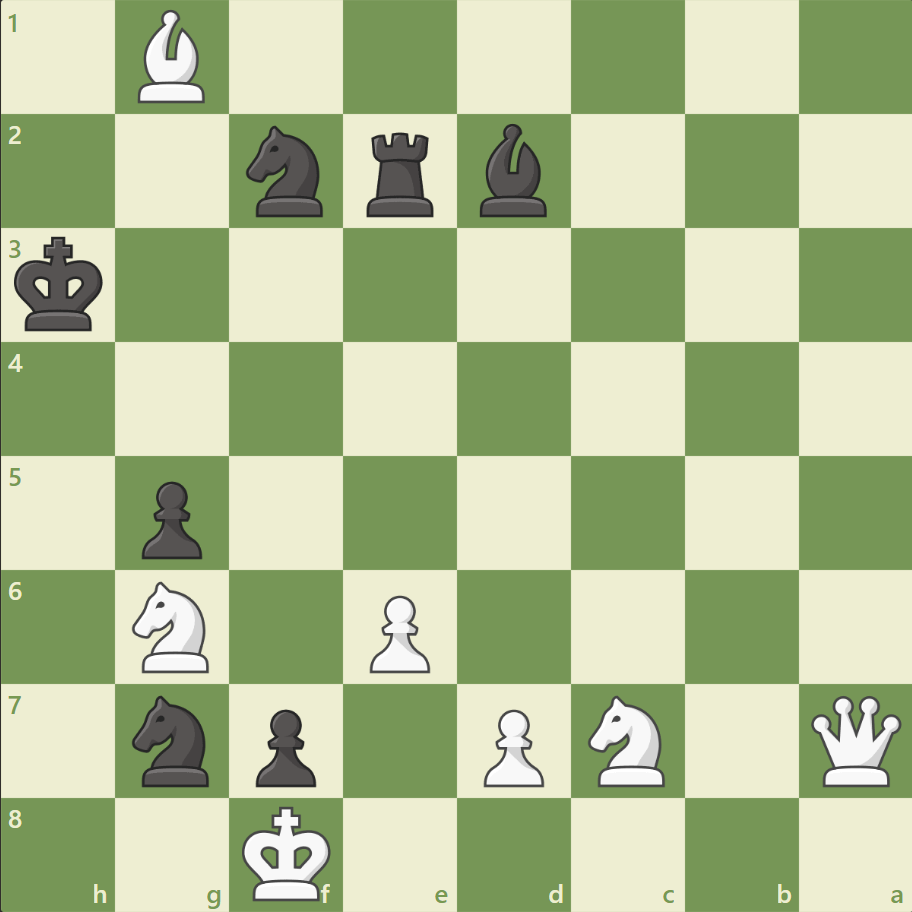B: (131, 6, 215, 109)
K: (238, 798, 338, 906)
N: (124, 575, 222, 677), (579, 688, 676, 791)
P: (474, 700, 549, 791), (361, 586, 435, 677)
Q: (805, 690, 904, 789)
b: (471, 120, 555, 222)
k: (11, 231, 111, 339)
n: (124, 688, 222, 791), (238, 121, 335, 223)
p: (247, 700, 322, 791), (133, 473, 208, 564)
r: (360, 125, 442, 222)
